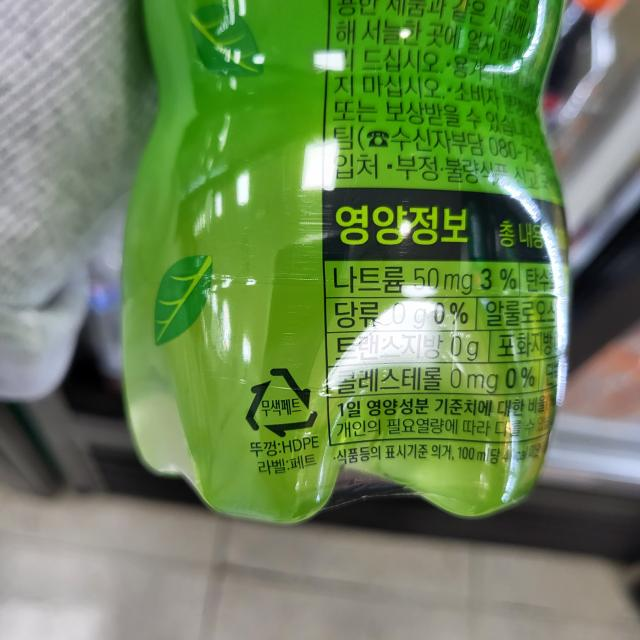ColorlessPET: (243, 360, 324, 439)
